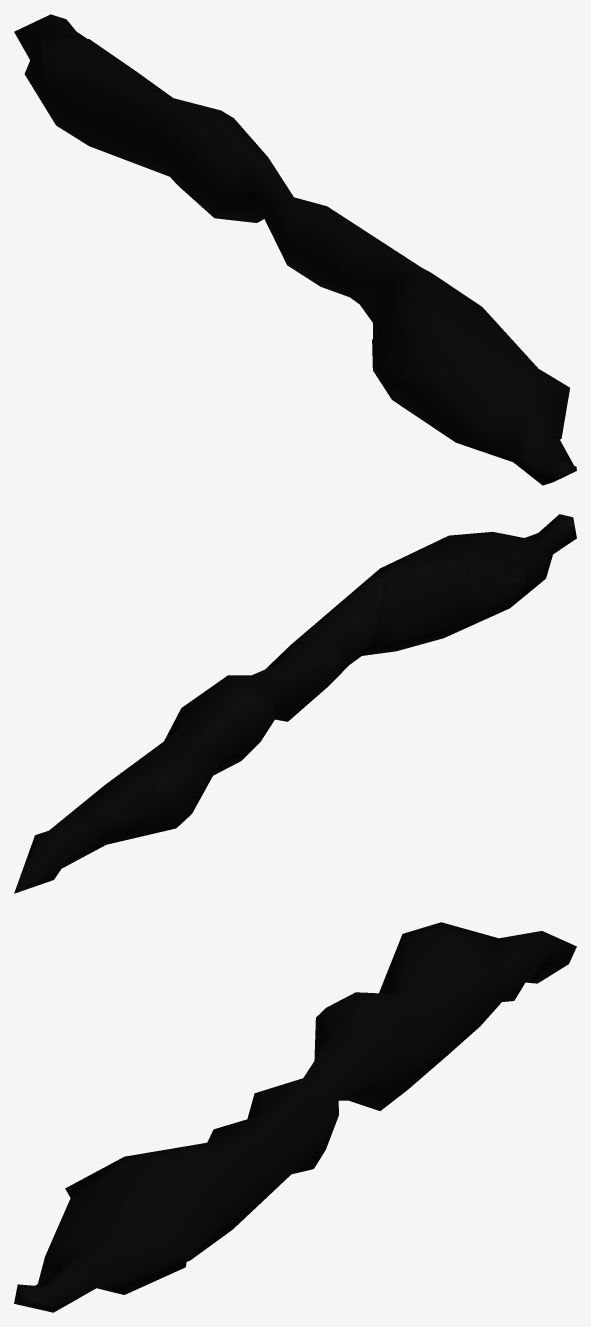
The model's file is bb_relic.obj.
3 renders of one model, top to bottom at view 1: azimuth 30°, elevation 25°; view 2: azimuth 150°, elevation 25°; view 3: azimuth 330°, elevation 25°, orthographic. The views are drawn at different scales.
Parts seen in each view (by area): view 1: bb_artifact; view 2: bb_artifact; view 3: bb_artifact.
Part boxes in pixels (bbox=[...]): bb_artifact: bbox=[14, 14, 576, 485]; bb_artifact: bbox=[14, 514, 576, 893]; bb_artifact: bbox=[14, 922, 576, 1312].
Bounding box in the file's own units: 0.1032 × 0.0796 × 0.7144.
